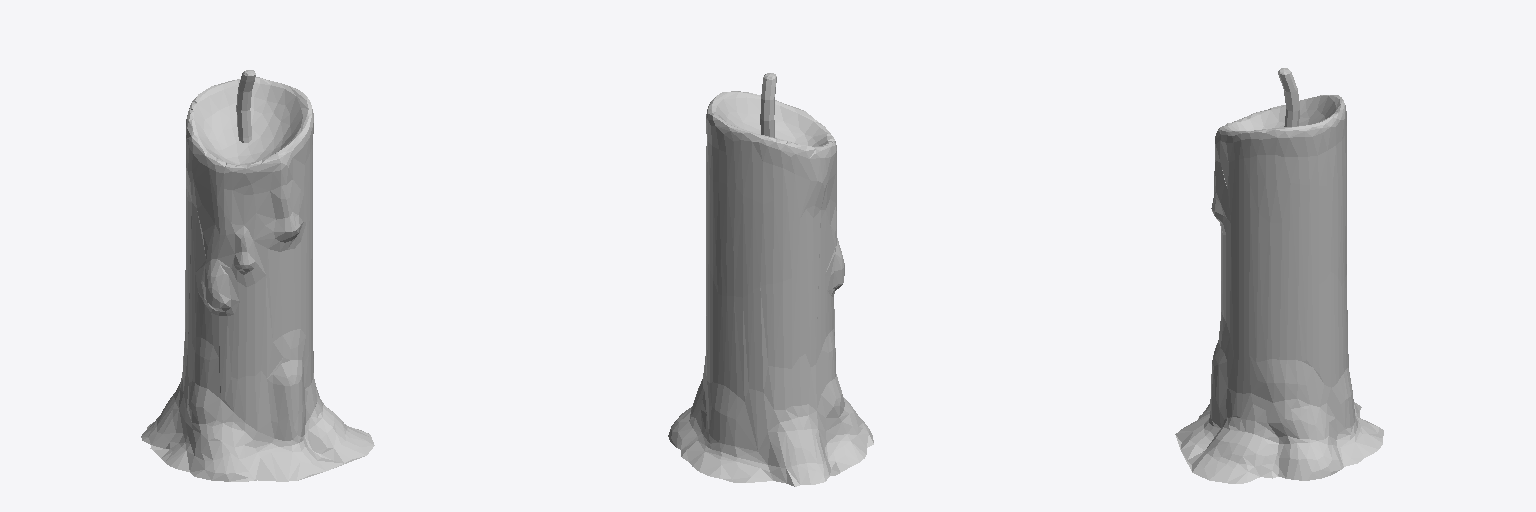
Rendered from Candle3.obj.
The picture shows the model from 3 angles: view 1: azimuth 30°, elevation 25°; view 2: azimuth 150°, elevation 25°; view 3: azimuth 270°, elevation 25°; orthographic projection.
Visible parts, largest first — view 1: Cube.021; view 2: Cube.021; view 3: Cube.021.
Part boxes in pixels (x1,y1,x2,y2): Cube.021: (141, 70, 374, 481); Cube.021: (668, 73, 873, 486); Cube.021: (1175, 68, 1383, 483).
Size of the model in its own units: 0.2176 by 0.42 by 0.2159.